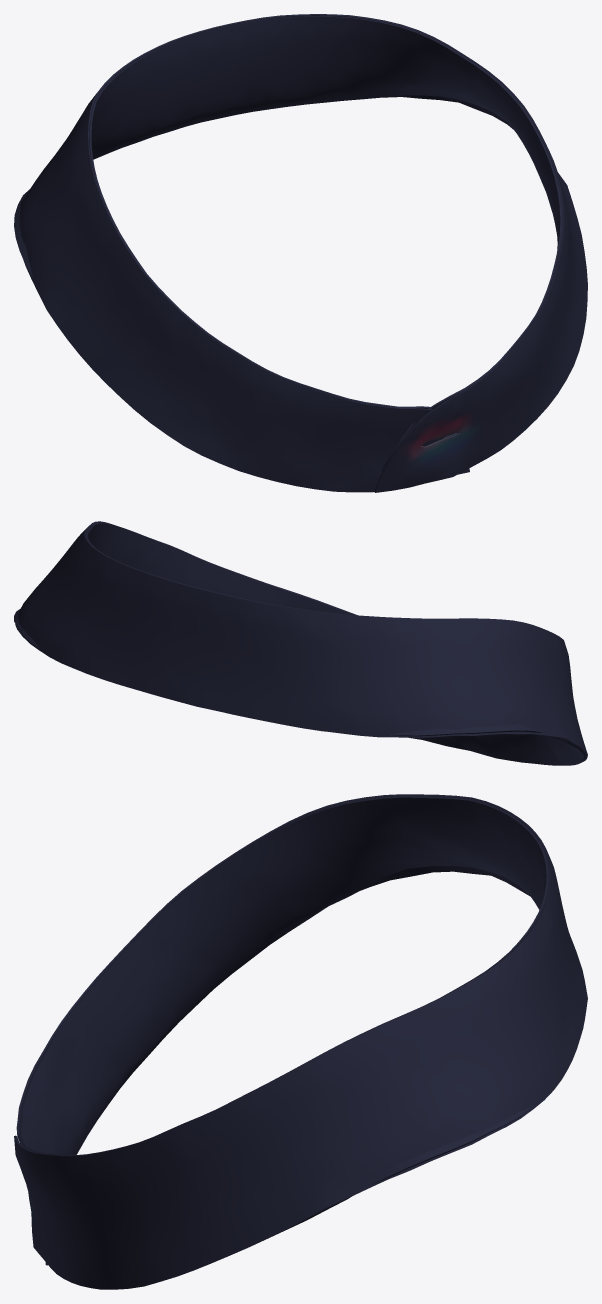
The model's file is stand-up-collar.glb.
3 views of the same model, one above another, from view 1: azimuth 30°, elevation 25°; view 2: azimuth 150°, elevation 25°; view 3: azimuth 270°, elevation 25° (orthographic). The views are drawn at different scales.
Visible parts, largest first — view 1: Collar_Node, Collar_Stand_Node; view 2: Collar_Node, Collar_Stand_Node; view 3: Collar_Node, Collar_Stand_Node.
Boxes of the visible parts, x1,y1,x2,y2 form: Collar_Node: [19, 14, 587, 492]; Collar_Stand_Node: [14, 16, 562, 471]; Collar_Node: [15, 521, 587, 764]; Collar_Stand_Node: [14, 523, 585, 765]; Collar_Node: [14, 794, 587, 1289]; Collar_Stand_Node: [17, 796, 548, 1268].
Size of the model in its own units: 0.1605 by 0.0893 by 0.1274.
Materials: 2 (2 with a texture image).
